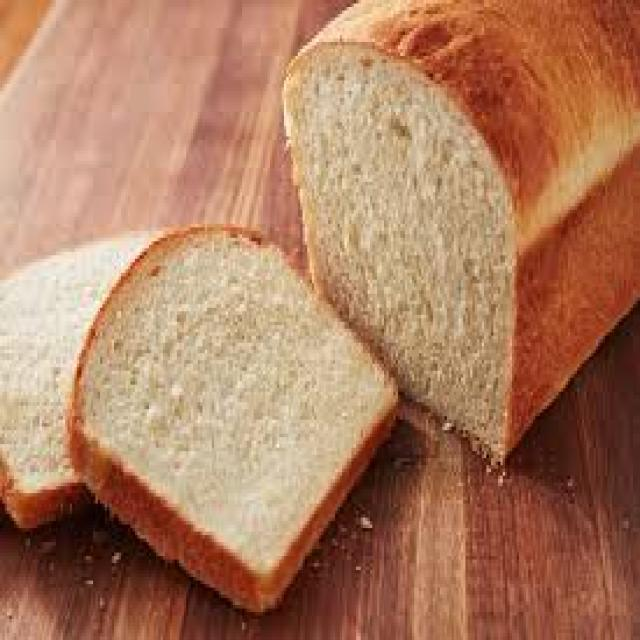food_waste: (0, 0, 638, 609)
